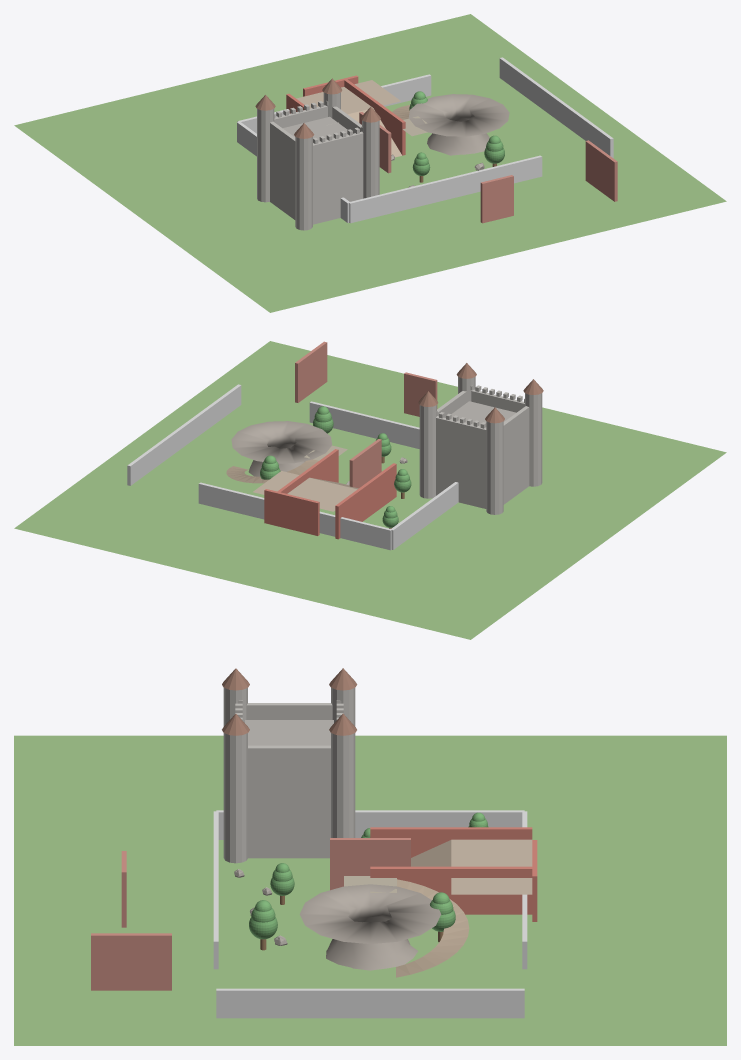
The model's file is walkable_world_map.glb.
3 views of the same model, one above another, from view 1: azimuth 30°, elevation 25°; view 2: azimuth 150°, elevation 25°; view 3: azimuth 270°, elevation 25° (orthographic). The views are drawn at different scales.
Parts seen in each view (by area): view 1: WALKABLE_Ground, Castle_Visual, Mountain_01_Visual, BLOCKER_MapBoundary_South, BLOCKER_MapBoundary_East, BLOCKER_Mountain_01_BackCliff, BLOCKER_Mountain_01_RightCliff, WALKABLE_TestTop, BLOCKER_TestTop_RightCliff, BLOCKER_MapBoundary_North, WALKABLE_Castle_Floor_4, BLOCKER_MapBoundary_West (+1 smaller); view 2: WALKABLE_Ground, Castle_Visual, Mountain_01_Visual, BLOCKER_MapBoundary_North, BLOCKER_MapBoundary_East, BLOCKER_MapBoundary_South, BLOCKER_TestTop_LeftCliff, BLOCKER_TestTop_BackCliff, WALKABLE_TestTop, BLOCKER_MapBoundary_West, BLOCKER_Mountain_01_RightCliff, BLOCKER_Mountain_01_LeftCliff (+4 smaller); view 3: WALKABLE_Ground, Castle_Visual, BLOCKER_MapBoundary_East, Mountain_01_Visual, BLOCKER_Mountain_01_RightCliff, BLOCKER_TestTop_RightCliff, WALKABLE_TestTop, BLOCKER_MapBoundary_West, BLOCKER_Mountain_01_LeftCliff, BLOCKER_TestTop_LeftCliff, WALKABLE_Castle_Floor_4, RAMP_Crescent (+5 smaller).
Part boxes in pixels (x1,y1,x2,y2): WALKABLE_Ground: (14,14,726,312); Castle_Visual: (255,78,380,230); Mountain_01_Visual: (408,94,509,155); BLOCKER_MapBoundary_South: (349,155,542,223); BLOCKER_MapBoundary_East: (499,57,613,158); BLOCKER_Mountain_01_BackCliff: (480,175,513,223); BLOCKER_Mountain_01_RightCliff: (585,140,617,201); WALKABLE_TestTop: (296,80,400,114); BLOCKER_TestTop_RightCliff: (344,79,405,155); BLOCKER_MapBoundary_North: (237,74,431,133); WALKABLE_Castle_Floor_4: (283,116,348,143); BLOCKER_MapBoundary_West: (237,121,349,222); WALKABLE_Ground: (14,341,726,639); Castle_Visual: (418,363,543,514); Mountain_01_Visual: (231,421,332,476); BLOCKER_MapBoundary_North: (198,482,391,550); BLOCKER_MapBoundary_East: (127,384,241,485); BLOCKER_MapBoundary_South: (309,401,419,448); BLOCKER_TestTop_LeftCliff: (335,463,396,539); BLOCKER_TestTop_BackCliff: (264,489,319,535); WALKABLE_TestTop: (253,471,357,511); BLOCKER_MapBoundary_West: (391,482,458,549); BLOCKER_Mountain_01_RightCliff: (295,341,327,402); BLOCKER_Mountain_01_LeftCliff: (349,439,381,488); WALKABLE_Ground: (14,735,726,1045); Castle_Visual: (222,668,357,863); BLOCKER_MapBoundary_East: (216,988,524,1018); Mountain_01_Visual: (299,884,441,970); BLOCKER_Mountain_01_RightCliff: (91,933,171,990); BLOCKER_TestTop_RightCliff: (370,866,532,914); WALKABLE_TestTop: (451,839,532,894); BLOCKER_MapBoundary_West: (216,810,524,839); BLOCKER_Mountain_01_LeftCliff: (330,838,410,890); BLOCKER_TestTop_LeftCliff: (370,827,532,857); WALKABLE_Castle_Floor_4: (245,720,333,745); RAMP_Crescent: (396,879,469,977).
Bounding box in the file's own units: 72.56 × 17.28 × 70.48.
